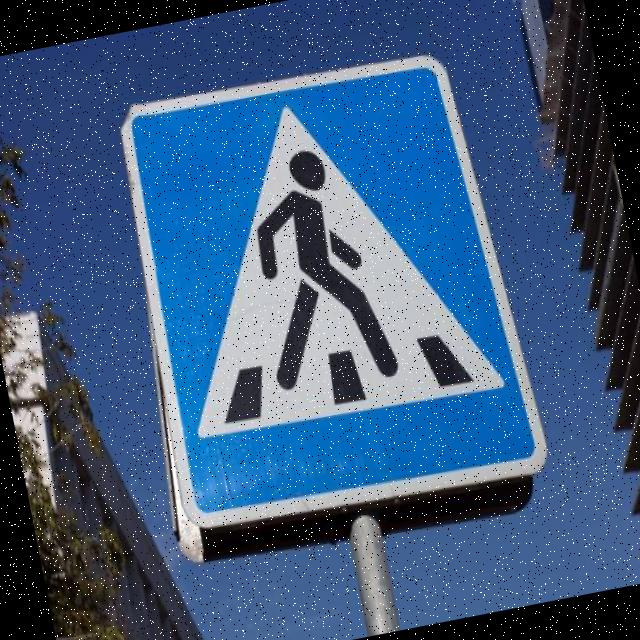crosswalk: (100, 16, 561, 556)
